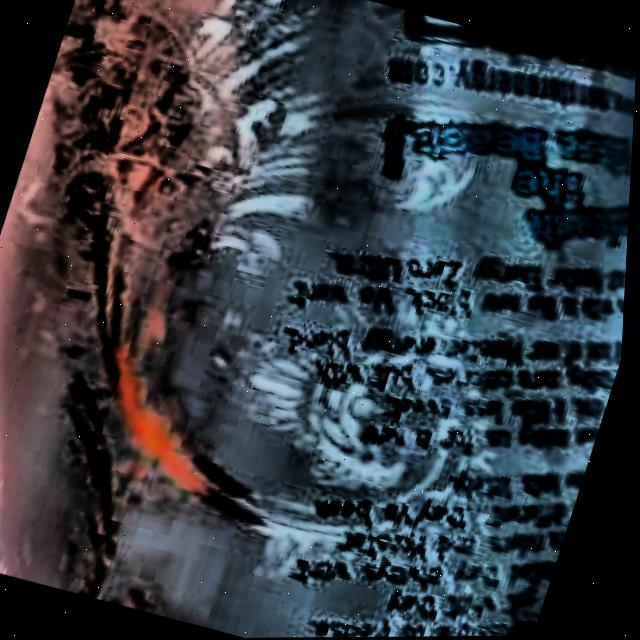metal: (1, 0, 637, 638)
